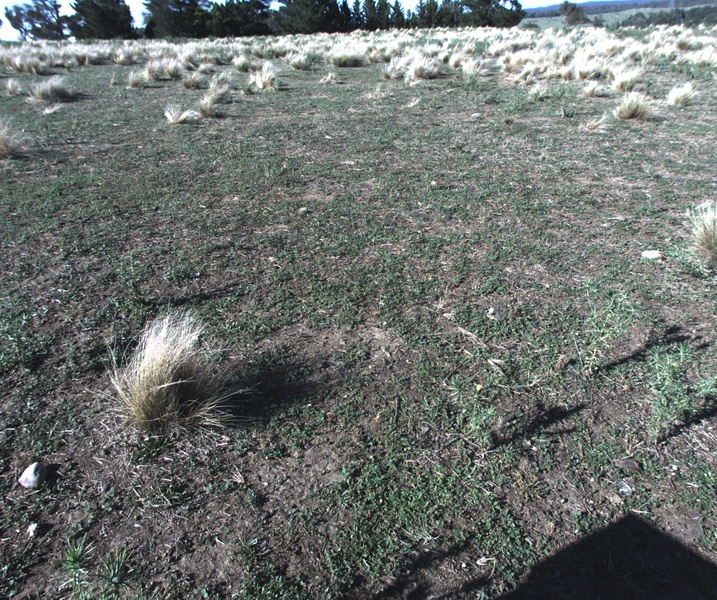st: (104, 312, 228, 446), (681, 202, 717, 275), (388, 51, 435, 82), (200, 73, 232, 115), (32, 78, 75, 107), (1, 125, 28, 169), (618, 91, 654, 120), (159, 102, 200, 125), (330, 47, 371, 69), (456, 56, 494, 79), (246, 65, 276, 94), (581, 110, 610, 138), (610, 68, 639, 93), (143, 60, 180, 79), (669, 82, 696, 107), (126, 70, 154, 92), (283, 49, 310, 70), (178, 72, 205, 92), (6, 79, 25, 97), (582, 76, 601, 93), (231, 52, 248, 68), (109, 70, 118, 90)
